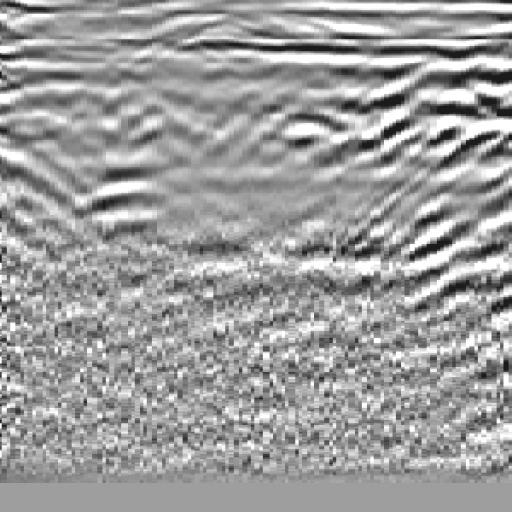metalic: (363, 42, 512, 279), (58, 38, 207, 270)
